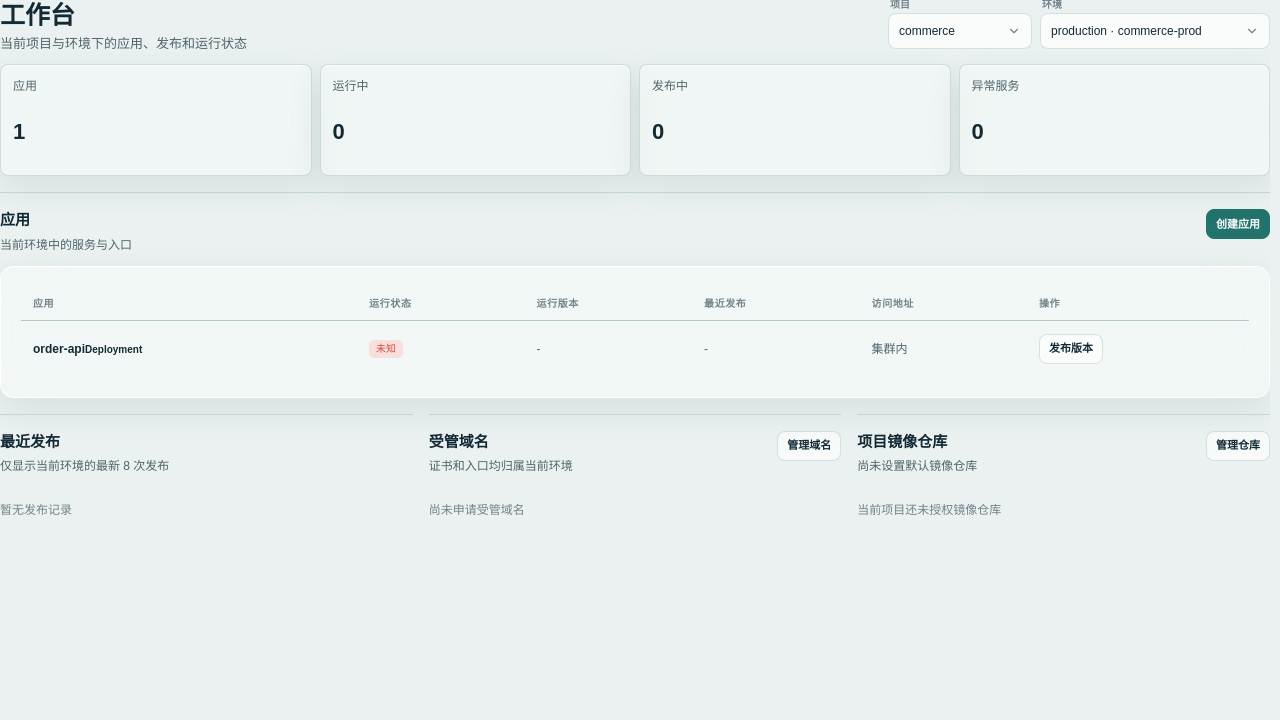
Test: Applications view › loads selectable application templates for a release
Click the button "发布版本" at x=1071, y=348, box left=1039, top=334, right=1103, bottom=364
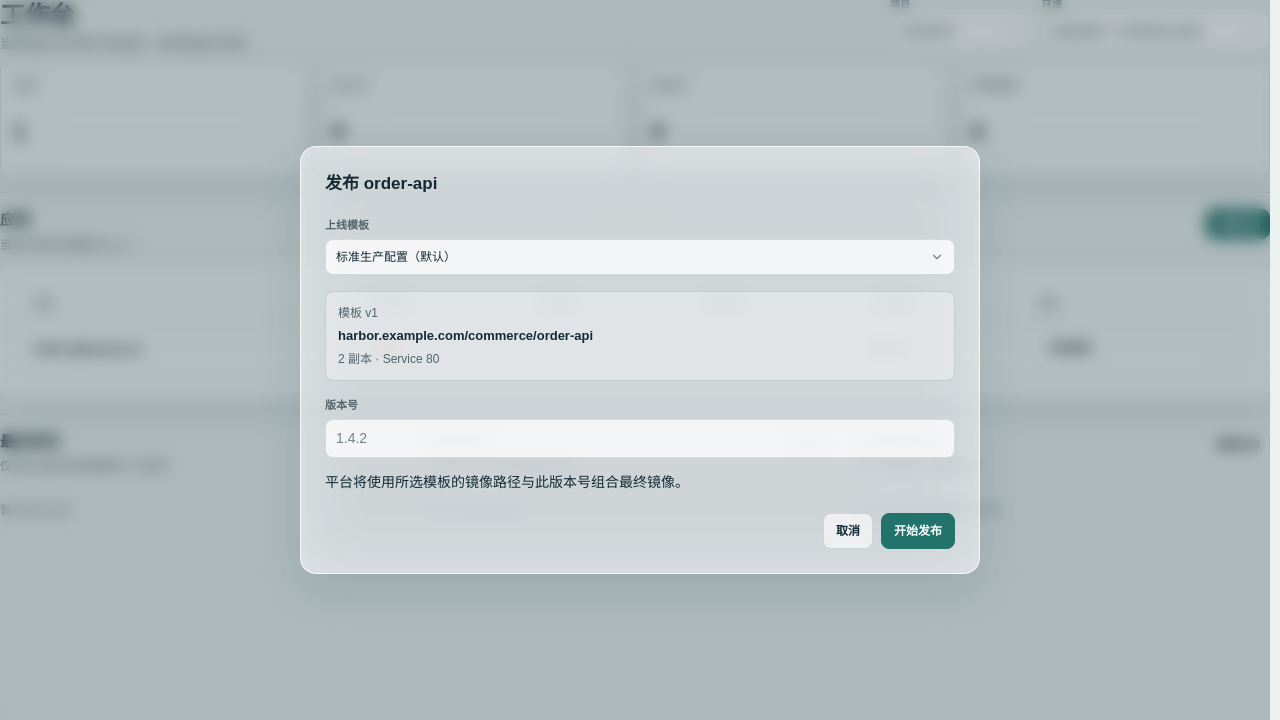
expect the element with class "release-modal" is shown: met, box left=300, top=146, right=980, bottom=574
expect the element with class "release-modal" shows "标准生产配置": met, box left=325, top=239, right=955, bottom=275
expect the dropdown named "选择" shows "标准生产配置（默认）": met, box left=325, top=275, right=347, bottom=313
